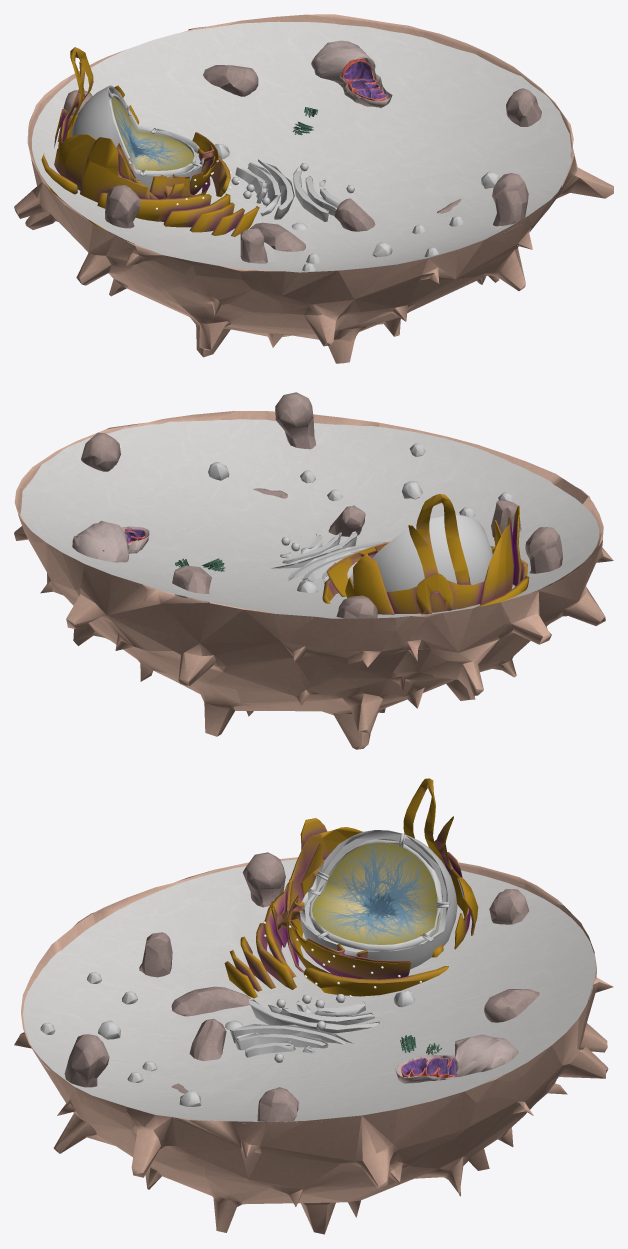
Rendered from Animal cell.fbx.
3 renders of one model, top to bottom at view 1: azimuth 30°, elevation 25°; view 2: azimuth 150°, elevation 25°; view 3: azimuth 270°, elevation 25°, orthographic. The views are drawn at different scales.
Parts seen in each view (by area): view 1: Animal_cell; view 2: Animal_cell; view 3: Animal_cell.
Part boxes in pixels (x1,y1,x2,y2): Animal_cell: (14,14,613,363); Animal_cell: (14,392,613,749); Animal_cell: (14,778,613,1234).
Size of the model in its own units: 122 by 66.19 by 113.
